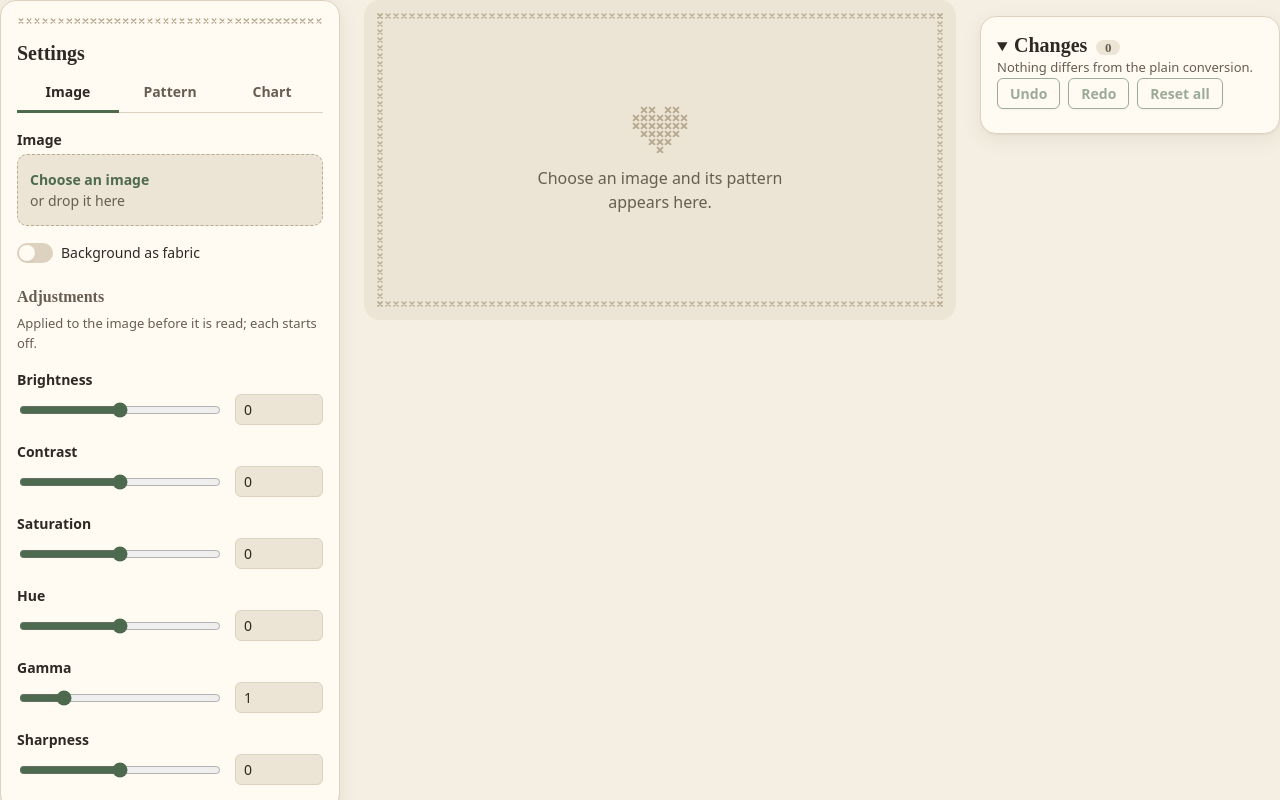
UploadForm limits › takes every slider's range, step and starting value from the limits
The width and height of the screenshot is (1280, 800).
Expected: the file field labelled "image" is shown, [17,154,323,226]
Click the tab "Pattern". click: (170, 93)
box: [119,73,221,113]
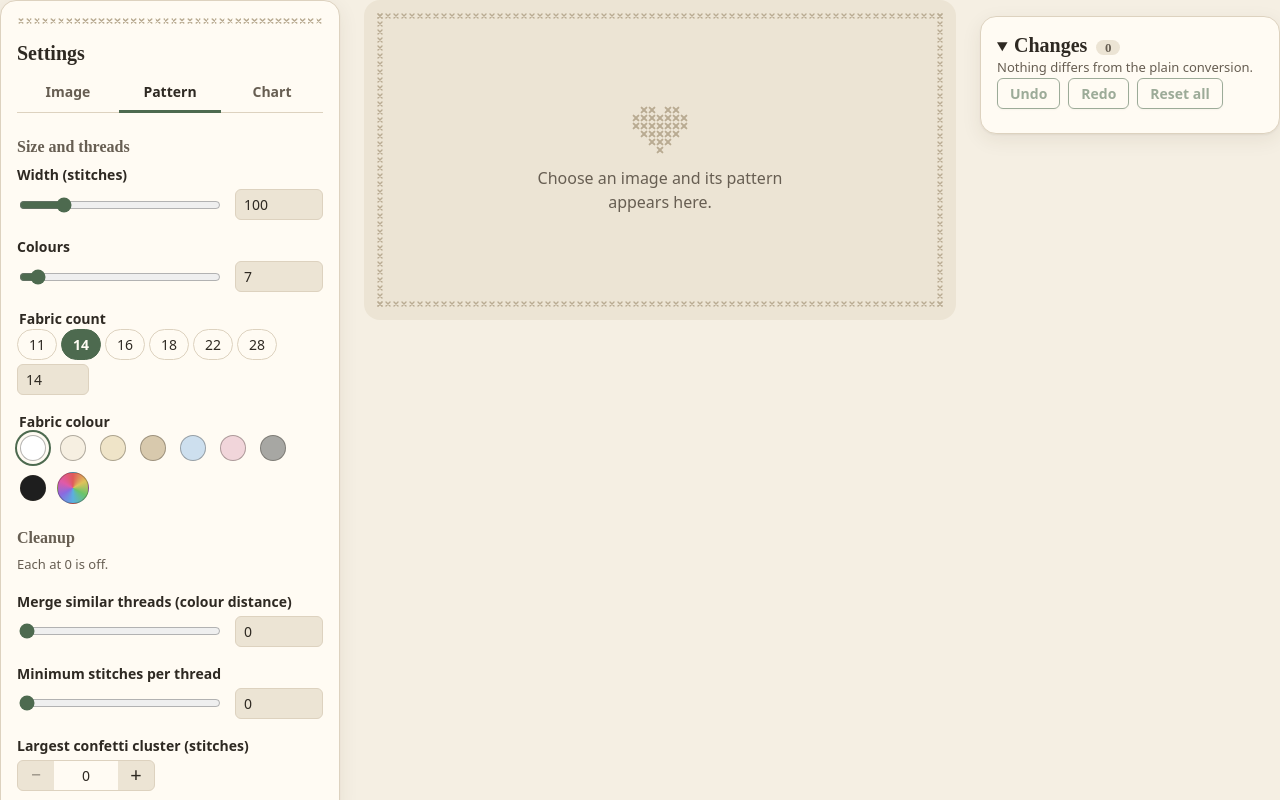
Expected: the slider labelled "Width (stitches)" holds "100", [19,197,221,213]
Expected: the number field labelled "Width (stitches)" holds "100", [235,189,323,220]
Expected: the slider labelled "Colours" holds "7", [19,269,221,285]
